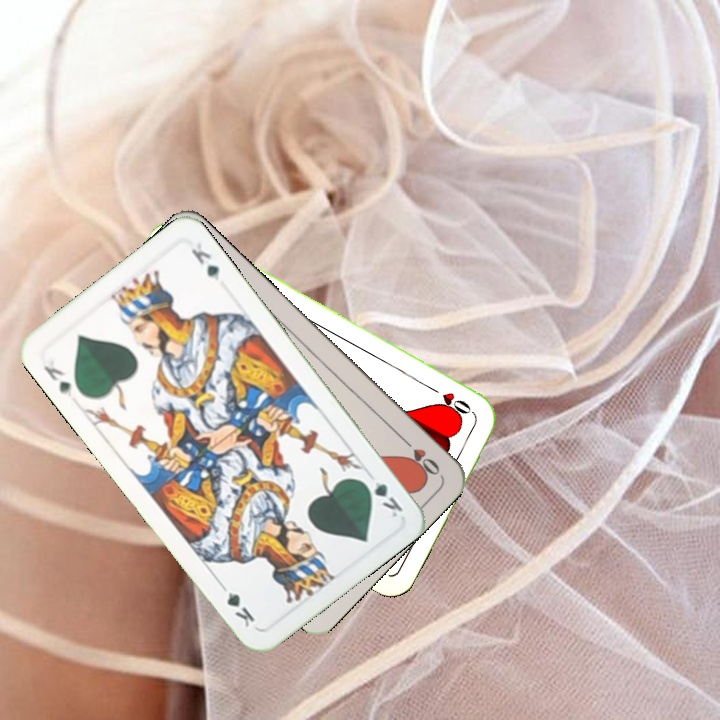GK: (357, 468, 406, 520), (39, 361, 75, 400)
HO: (397, 432, 443, 480), (423, 381, 477, 417)
